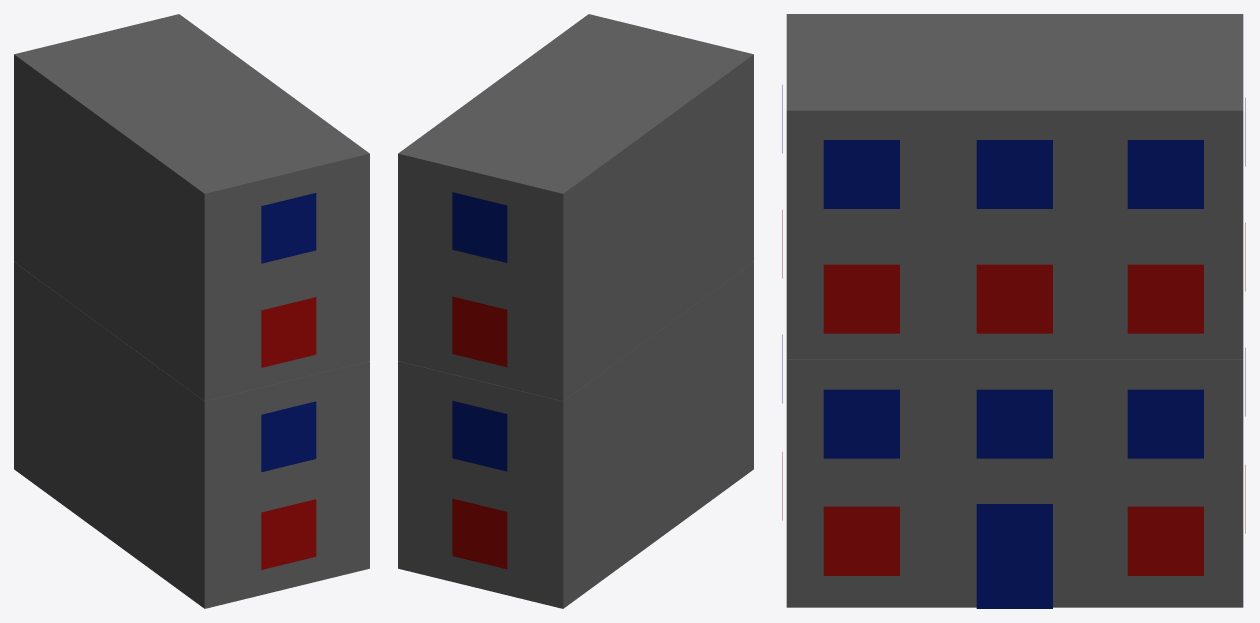
The model's file is building 6.fbx.
3 views of the same model, side by side, from view 1: azimuth 30°, elevation 25°; view 2: azimuth 150°, elevation 25°; view 3: azimuth 270°, elevation 25° (orthographic). The views are drawn at different scales.
Visible parts, largest first — view 1: Cube.022, Cube.020, Cube.021, Cube.019, Plane.081, Plane.080, Plane.082, Plane.079; view 2: Cube.022, Cube.020, Cube.019, Cube.021, Plane.085, Plane.083, Plane.084, Plane.086; view 3: Cube.022, Cube.020, Cube.021, Cube.019, Plane.078, Plane.070, Plane.071, Plane.072, Plane.073, Plane.074, Plane.075, Plane.076 (+4 smaller).
Part boxes in pixels (x1,y1,x2,y2): Cube.022: (14, 14, 369, 297); Cube.020: (14, 262, 369, 504); Cube.021: (14, 158, 369, 401); Cube.019: (14, 366, 369, 608); Plane.081: (261, 401, 316, 472); Plane.080: (261, 297, 316, 367); Plane.082: (261, 499, 316, 569); Plane.079: (261, 193, 316, 263); Cube.022: (398, 14, 753, 297); Cube.020: (398, 262, 753, 504); Cube.019: (398, 366, 753, 608); Cube.021: (398, 158, 753, 401); Plane.085: (452, 400, 507, 471); Plane.083: (452, 192, 507, 262); Plane.084: (452, 296, 507, 367); Plane.086: (452, 498, 507, 569); Cube.022: (786, 14, 1243, 234); Cube.020: (786, 359, 1243, 483); Cube.021: (786, 234, 1243, 358); Cube.019: (786, 483, 1243, 607); Plane.078: (976, 504, 1052, 608); Plane.070: (823, 264, 899, 333); Plane.071: (976, 264, 1052, 333); Plane.072: (1127, 264, 1203, 333); Plane.073: (823, 389, 899, 458); Plane.074: (976, 389, 1052, 458); Plane.075: (1127, 389, 1203, 458); Plane.076: (823, 506, 899, 575).
Bounding box in the file's own units: 602 × 1444 × 1218.
